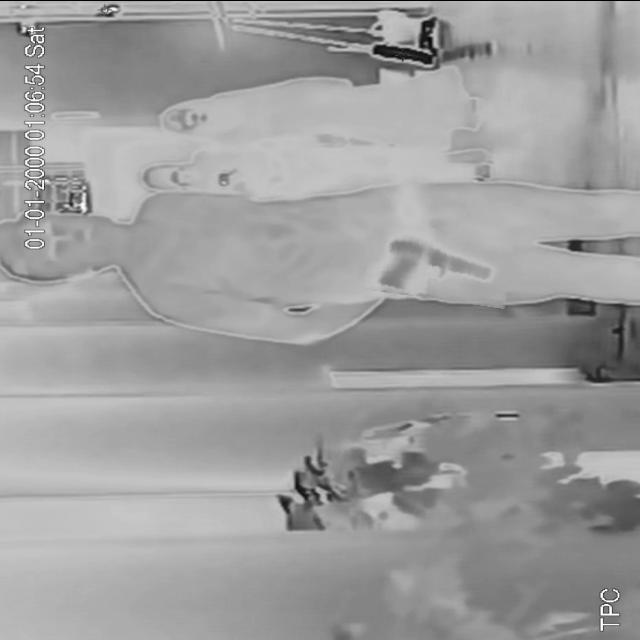Weapon: (366, 223, 512, 303)
